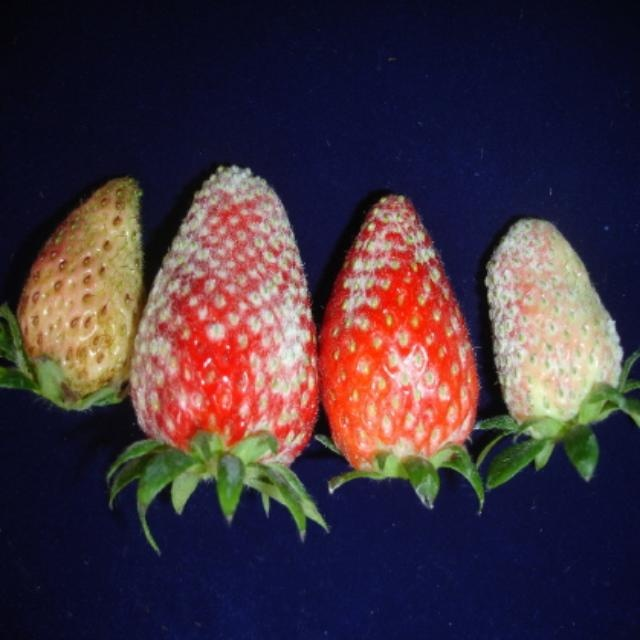Powdery Mildew Fruit: (128, 163, 320, 483), (316, 194, 480, 481), (484, 217, 625, 442)
